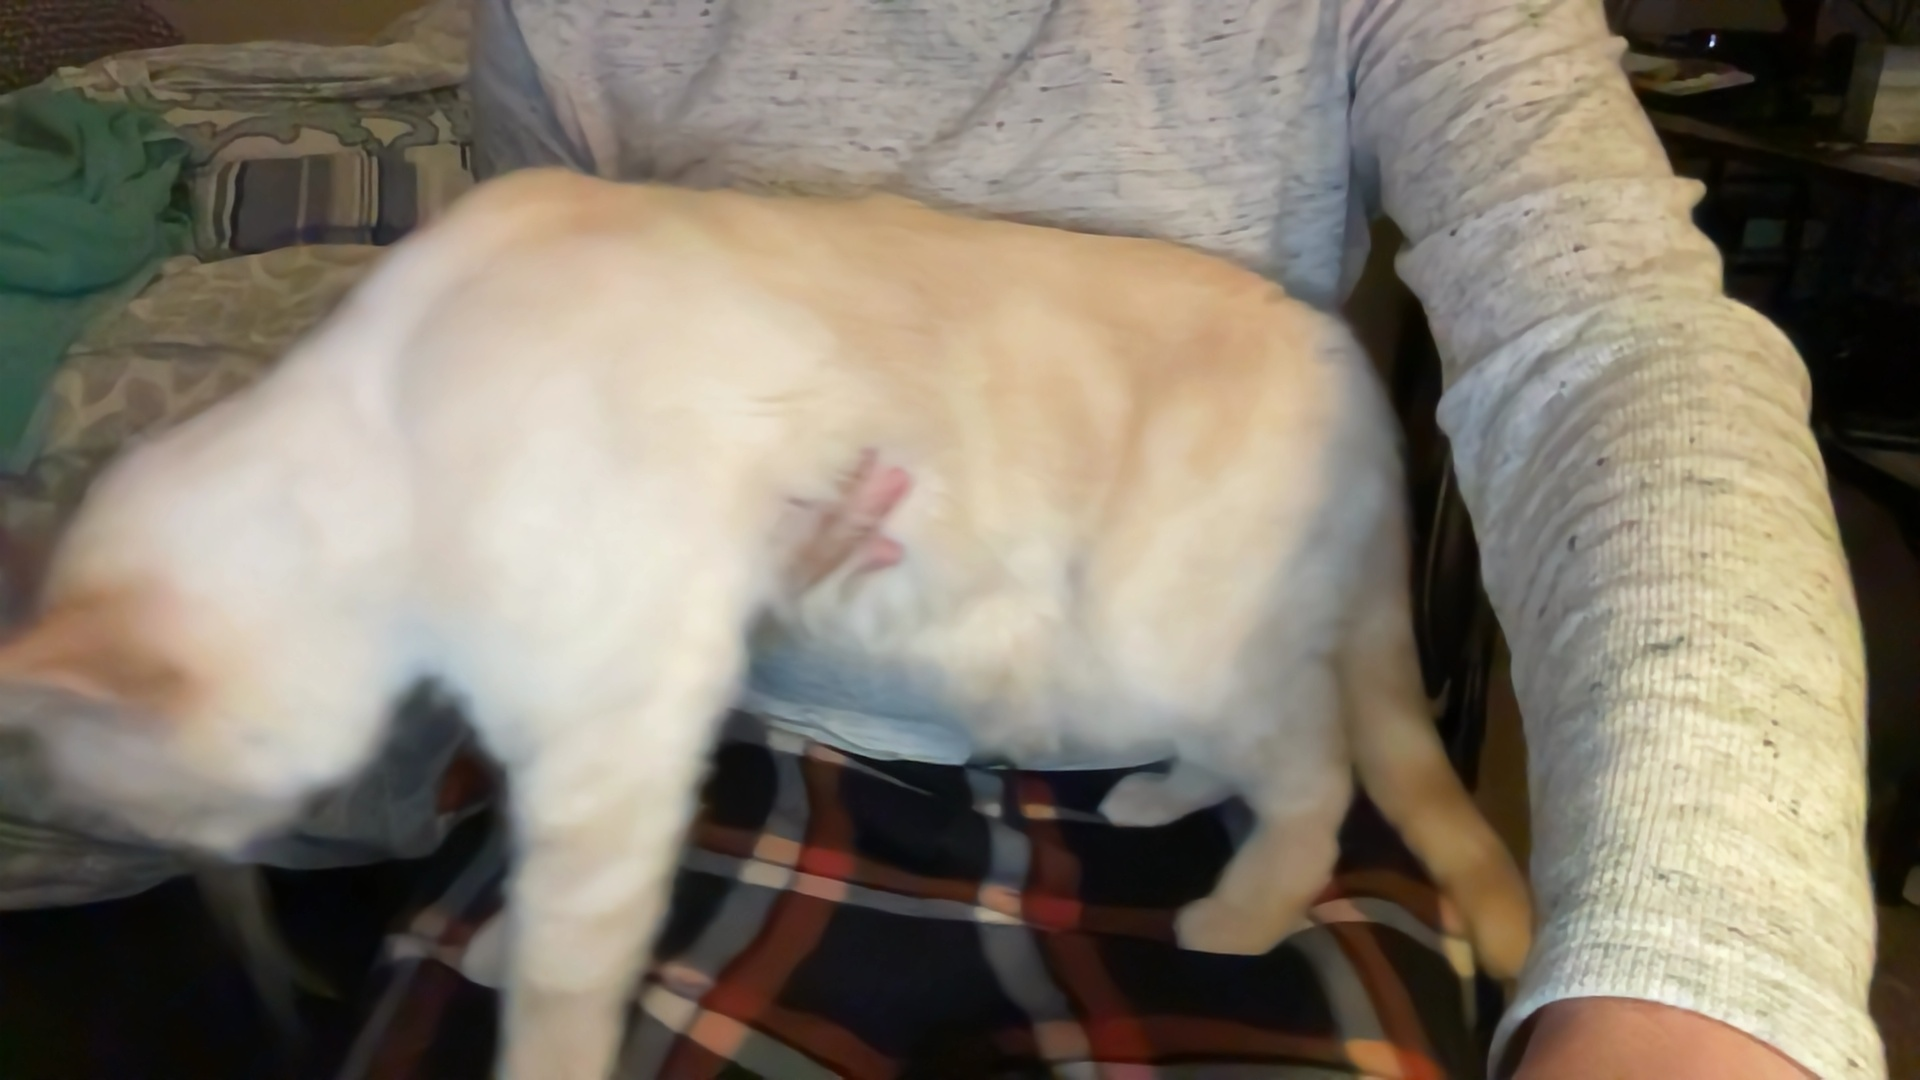cat: (18, 170, 1520, 1080)
